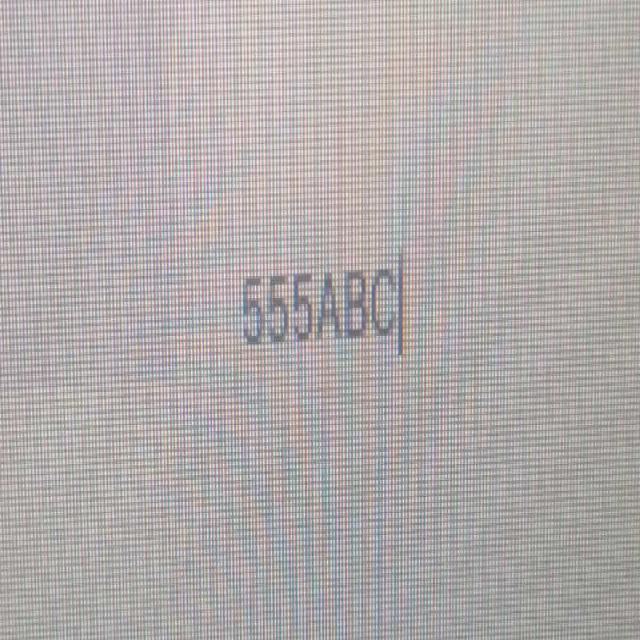license_plate: (234, 265, 397, 362)
